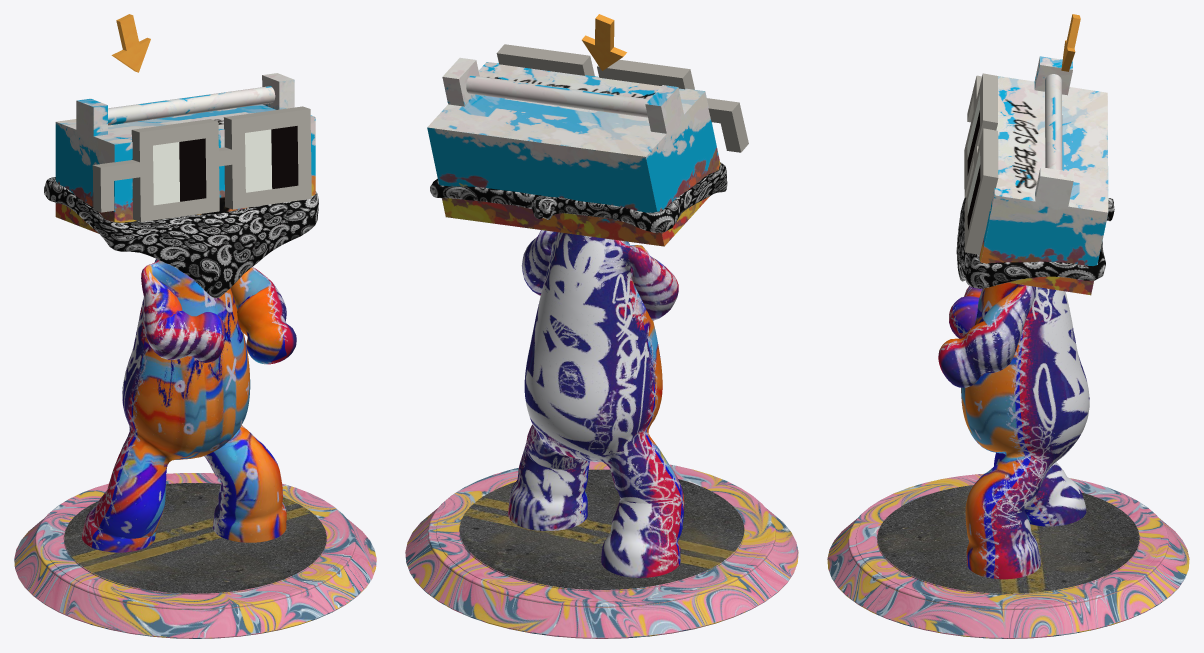
File: 136_sanitized.glb
3 renders of one model, left to right at view 1: azimuth 30°, elevation 25°; view 2: azimuth 150°, elevation 25°; view 3: azimuth 270°, elevation 25°, orthographic. The views are drawn at different scales.
Parts seen in each view (by area): view 1: BBody; view 2: BBody; view 3: BBody.
Part boxes in pixels (x1,y1,x2,y2): BBody: (14,14,376,638); BBody: (405,14,798,638); BBody: (827,14,1189,638).
Bounding box in the file's own units: 1.45 × 2.34 × 1.45.
7 materials, 7 textured.
